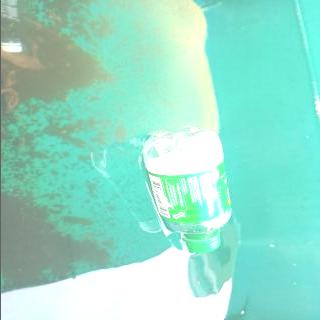bottle: (140, 122, 234, 256)
